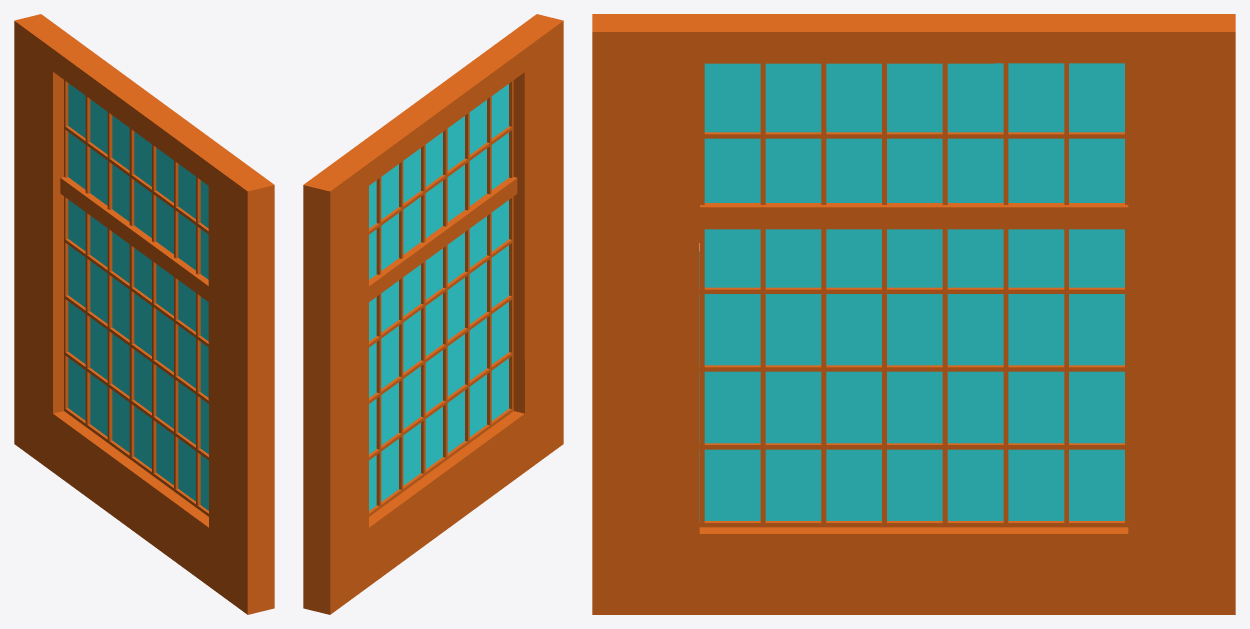
File: Mur_UsineVitreRDC.fbx
3 views of the same model, side by side, from view 1: azimuth 30°, elevation 25°; view 2: azimuth 150°, elevation 25°; view 3: azimuth 270°, elevation 25° (orthographic). The views are drawn at different scales.
Visible parts, largest first — view 1: Mur_UsineVitreRDC; view 2: Mur_UsineVitreRDC; view 3: Mur_UsineVitreRDC.
Part boxes in pixels (bbox=[...]): Mur_UsineVitreRDC: bbox=[14, 14, 274, 614]; Mur_UsineVitreRDC: bbox=[303, 14, 563, 614]; Mur_UsineVitreRDC: bbox=[592, 14, 1235, 614].
Size of the model in its own units: 40 by 600 by 600.
